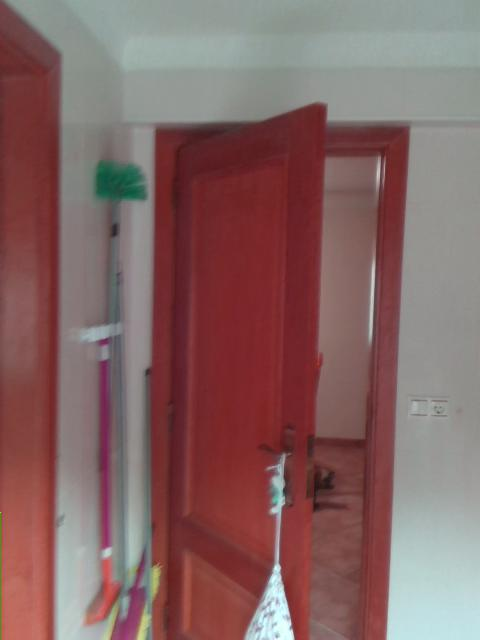semi_door: (150, 99, 411, 639)
